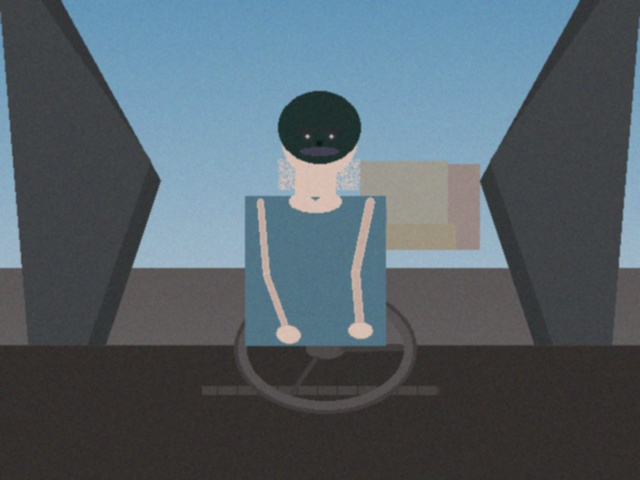normal_driving: (115, 203, 325, 349)
